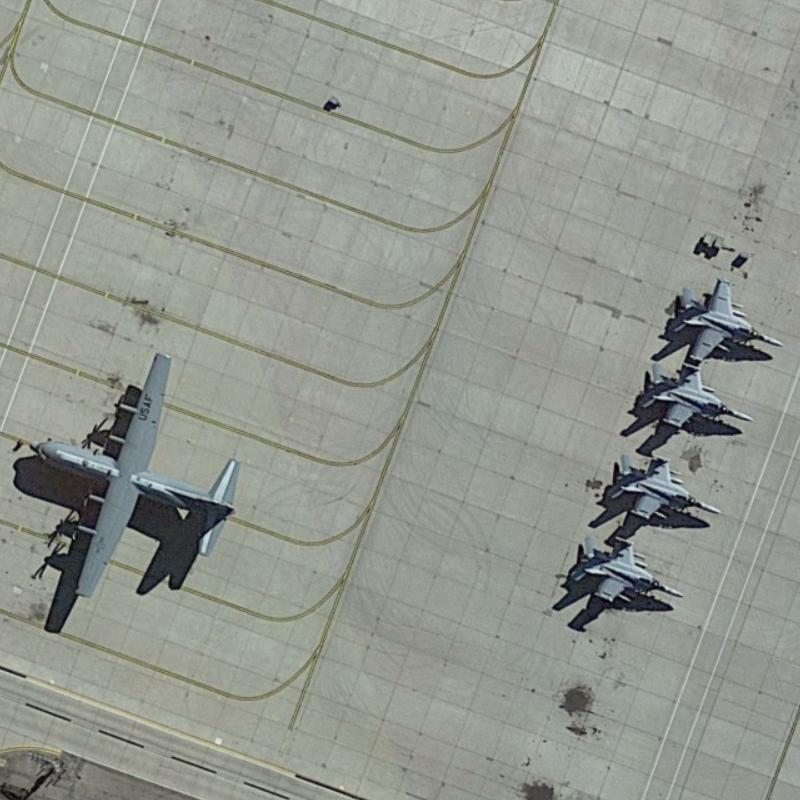A16: (655, 262, 792, 371), (558, 527, 690, 616), (630, 358, 762, 442), (596, 446, 726, 527)
A2: (12, 343, 264, 606)
